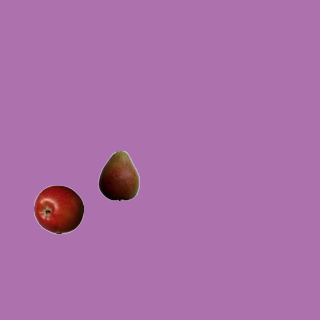Apple Braeburn: (33, 184, 83, 234)
Pear Forelle: (93, 150, 143, 200)
